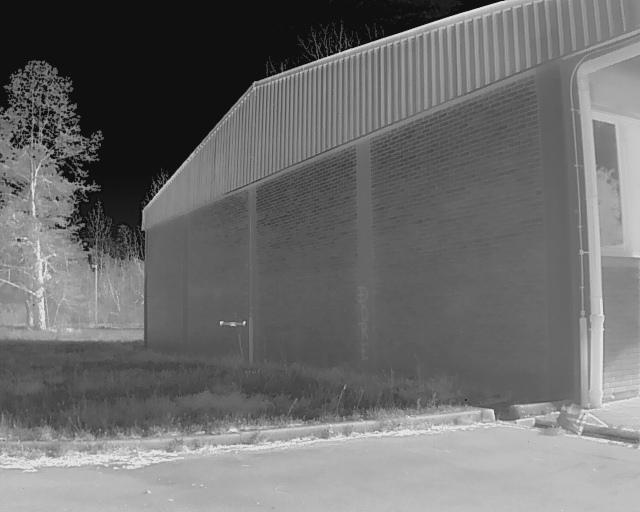drone: (212, 312, 253, 336)
